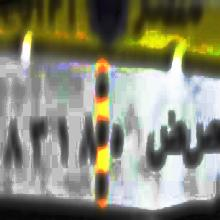1: (58, 114, 70, 176)
3: (30, 113, 48, 171)
8: (1, 115, 25, 177), (77, 114, 96, 177)
daad: (146, 109, 184, 178)
haa: (109, 118, 126, 168)
saad: (185, 105, 220, 178)
